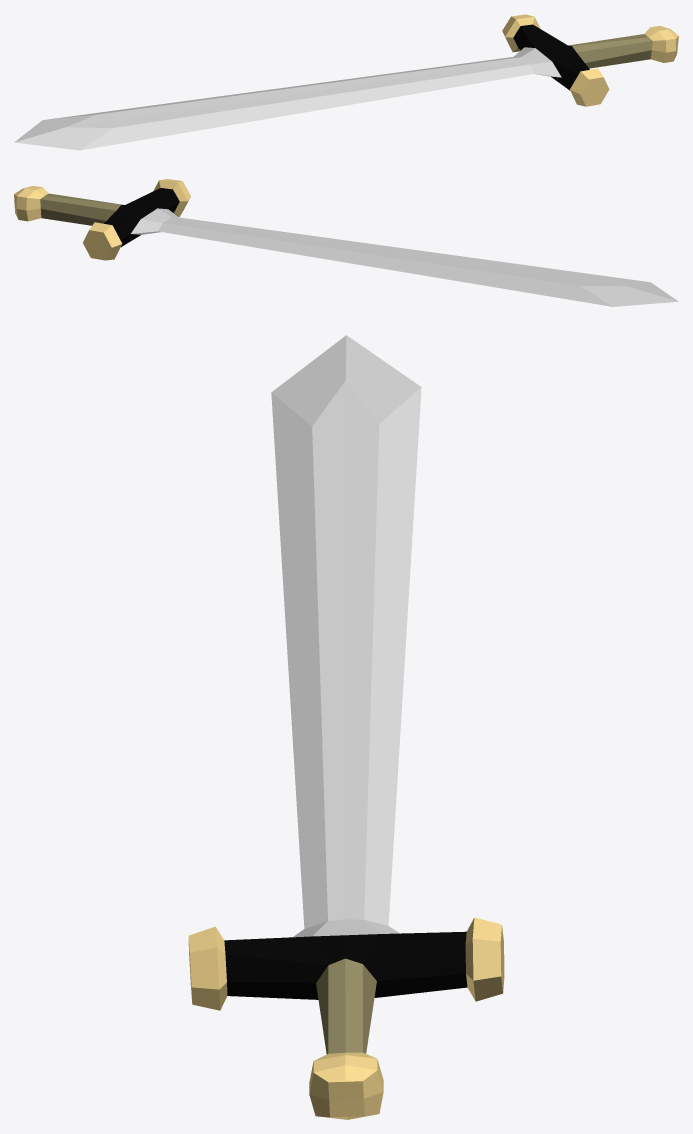
The model's file is sword.fbx.
3 views of the same model, one above another, from view 1: azimuth 30°, elevation 25°; view 2: azimuth 150°, elevation 25°; view 3: azimuth 270°, elevation 25° (orthographic). The views are drawn at different scales.
Parts seen in each view (by area): view 1: sword; view 2: sword; view 3: sword.
Boxes of the visible parts, x1,y1,x2,y2 form: sword: (14, 14, 678, 150); sword: (14, 179, 678, 306); sword: (188, 335, 504, 1119).
Bounding box in the file's own units: 1.52 × 0.169 × 0.3143.
